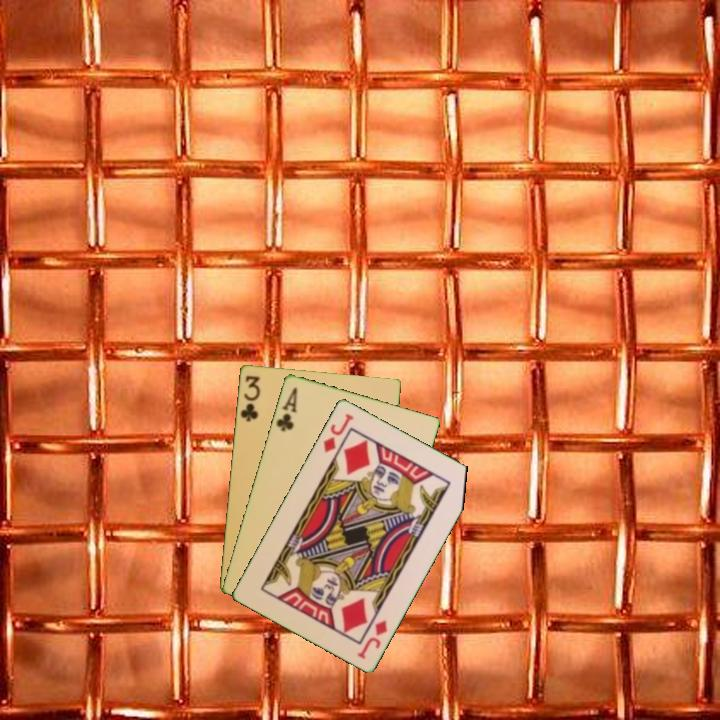3c: (237, 371, 263, 424)
Ac: (272, 383, 300, 434)
Jd: (320, 409, 357, 455), (353, 616, 390, 662)
